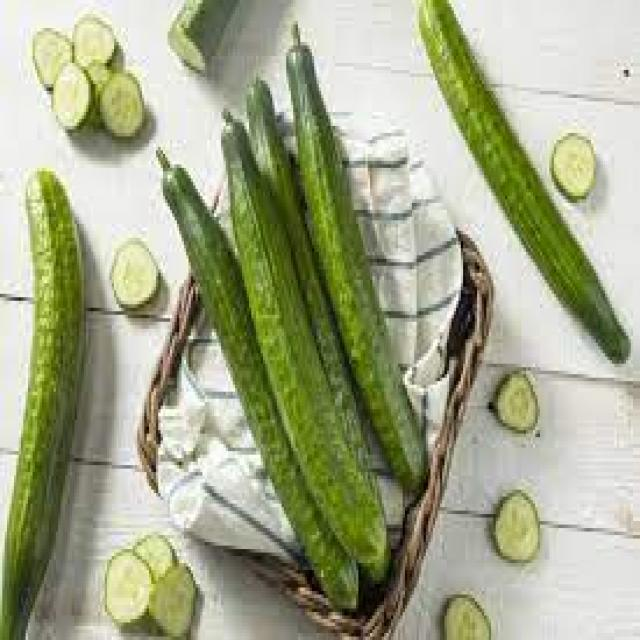Pickle: (159, 148, 357, 609), (419, 0, 629, 362), (223, 118, 386, 568), (286, 30, 427, 489), (246, 79, 370, 465), (0, 169, 84, 638), (171, 0, 237, 72), (149, 564, 196, 636), (105, 550, 151, 623), (111, 240, 159, 307), (494, 492, 539, 561), (100, 73, 145, 137), (53, 62, 91, 130), (553, 139, 595, 199), (495, 372, 537, 431), (33, 28, 73, 87), (74, 15, 114, 67), (134, 533, 174, 581), (447, 599, 490, 640)
